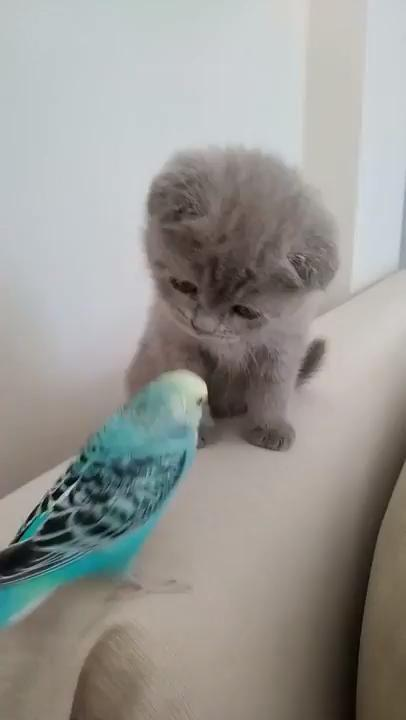kedo: (140, 140, 332, 447)
